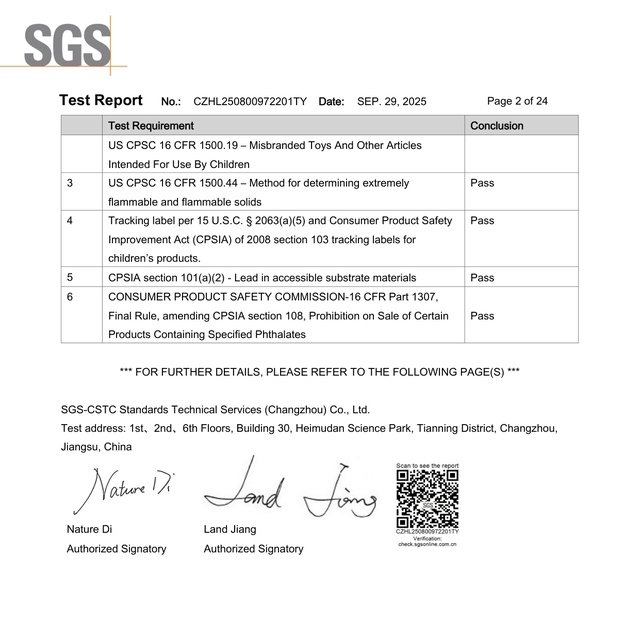sgs: (25, 22, 112, 66)
